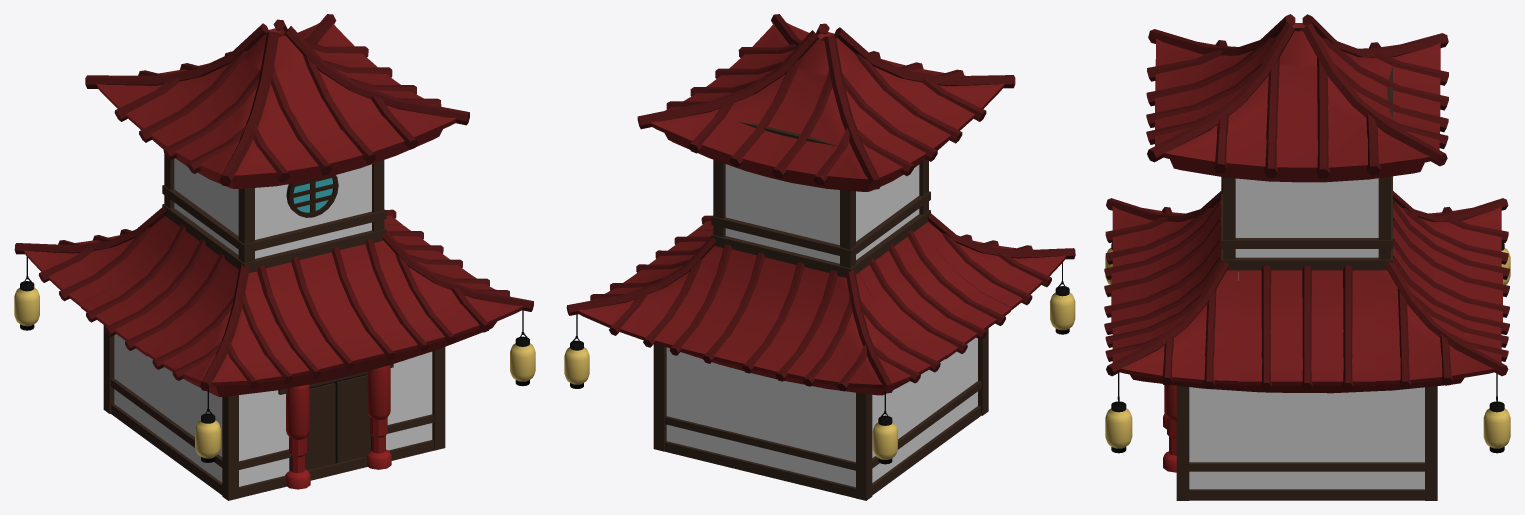
The model's file is SM_palace_japan.fbx.
The picture shows the model from 3 angles, left to right: view 1: azimuth 30°, elevation 25°; view 2: azimuth 150°, elevation 25°; view 3: azimuth 270°, elevation 25°; orthographic projection. The views are drawn at different scales.
Parts seen in each view (by area): view 1: Object007; view 2: Object007; view 3: Object007.
Part boxes in pixels (x1,y1,x2,y2): Object007: (14,14,535,500); Object007: (564,14,1075,500); Object007: (1104,14,1510,500).
Bounding box in the file's own units: 285 × 328 × 284.
